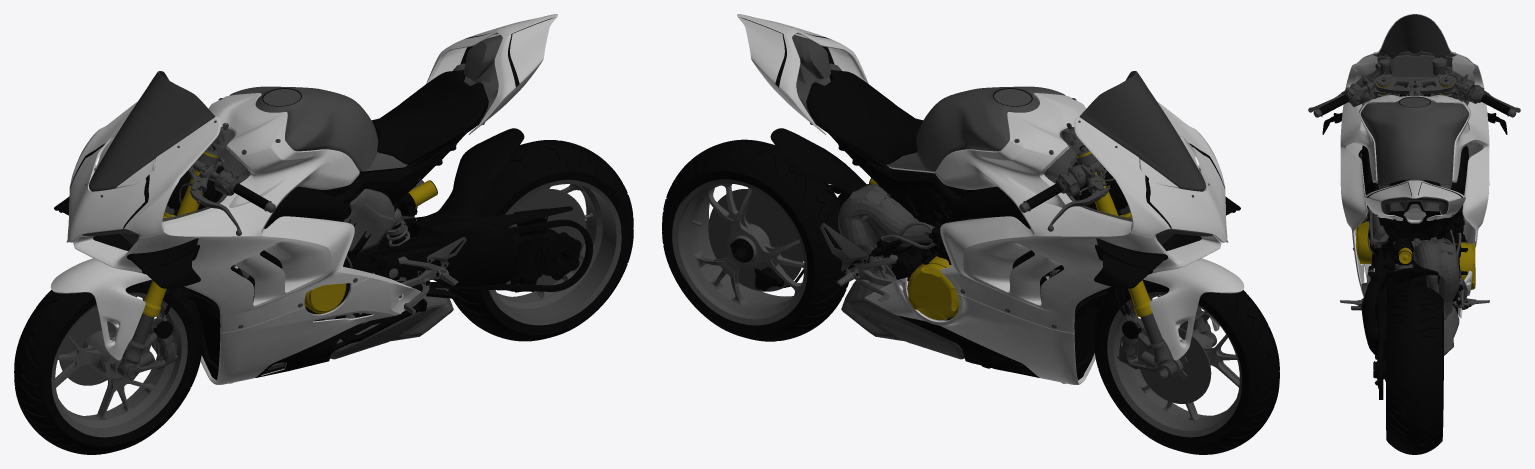
3 renders of one model, left to right at view 1: azimuth 30°, elevation 25°; view 2: azimuth 150°, elevation 25°; view 3: azimuth 270°, elevation 25°, orthographic. The views are drawn at different scales.
Parts seen in each view (by area): view 1: Object_13, Object_10, Object_21, Object_5, Object_4, Object_25, Object_22, Object_23, Object_3, Object_18, Object_12, Object_17 (+6 smaller); view 2: Object_13, Object_21, Object_4, Object_10, Object_5, Object_22, Object_23, Object_17, Object_3, Object_25, Object_19, Object_12 (+6 smaller); view 3: Object_13, Object_4, Object_23, Object_10, Object_22, Object_16, Object_25, Object_19, Object_18, Object_26, Object_6, Object_20 (+3 smaller).
Boxes of the visible parts, left/top/right/bottom form: Object_13: left=50, top=14, right=557, bottom=384; Object_10: left=93, top=33, right=581, bottom=380; Object_21: left=51, top=179, right=621, bottom=437; Object_5: left=14, top=279, right=202, bottom=454; Object_4: left=448, top=140, right=633, bottom=341; Object_25: left=153, top=74, right=572, bottom=338; Object_22: left=81, top=71, right=215, bottom=344; Object_23: left=229, top=86, right=407, bottom=171; Object_3: left=371, top=70, right=486, bottom=163; Object_18: left=205, top=127, right=466, bottom=320; Object_12: left=54, top=197, right=363, bottom=377; Object_17: left=59, top=189, right=586, bottom=385; Object_13: left=737, top=14, right=1244, bottom=384; Object_21: left=672, top=179, right=1241, bottom=437; Object_4: left=662, top=139, right=850, bottom=341; Object_10: left=730, top=33, right=1201, bottom=380; Object_5: left=1094, top=279, right=1279, bottom=454; Object_22: left=1079, top=71, right=1212, bottom=344; Object_23: left=887, top=86, right=1065, bottom=171; Object_17: left=708, top=189, right=1211, bottom=403; Object_3: left=808, top=70, right=923, bottom=163; Object_25: left=770, top=74, right=1141, bottom=338; Object_19: left=837, top=184, right=1059, bottom=302; Object_12: left=898, top=197, right=1240, bottom=383; Object_13: left=1340, top=51, right=1489, bottom=318; Object_4: left=1386, top=284, right=1443, bottom=454; Object_23: left=1360, top=97, right=1469, bottom=189; Object_10: left=1358, top=86, right=1468, bottom=388; Object_22: left=1373, top=14, right=1456, bottom=214; Object_16: left=1308, top=51, right=1520, bottom=116; Object_25: left=1366, top=96, right=1463, bottom=341; Object_19: left=1393, top=237, right=1459, bottom=314; Object_18: left=1313, top=58, right=1516, bottom=310; Object_26: left=1356, top=82, right=1475, bottom=289; Object_6: left=1319, top=94, right=1510, bottom=114; Object_20: left=1444, top=301, right=1459, bottom=355.
Size of the model in its own units: 535 by 302 by 199.
